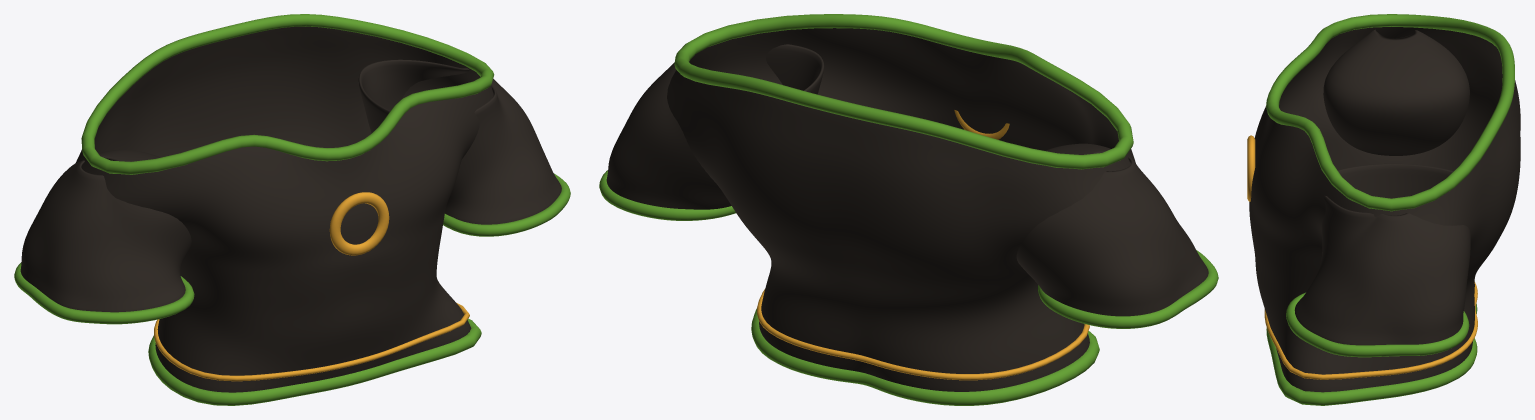
File: tunica.glb
3 views of the same model, side by side, from view 1: azimuth 30°, elevation 25°; view 2: azimuth 150°, elevation 25°; view 3: azimuth 270°, elevation 25° (orthographic). The views are drawn at different scales.
Parts seen in each view (by area): view 1: accesorio_tunica; view 2: accesorio_tunica; view 3: accesorio_tunica.
Boxes of the visible parts, x1=… form: accesorio_tunica: x1=14, y1=14, x2=570, y2=405; accesorio_tunica: x1=599, y1=14, x2=1218, y2=405; accesorio_tunica: x1=1247, y1=14, x2=1520, y2=405.
Bounding box in the file's own units: 1.27 × 0.6382 × 0.5935.
